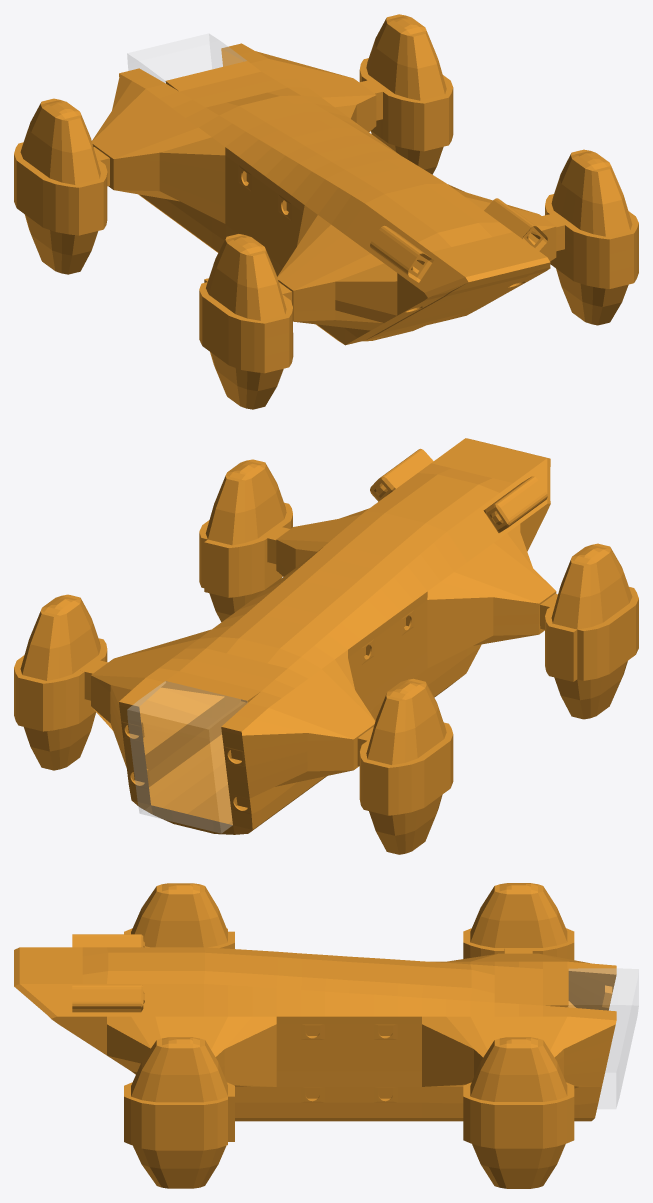
Rendered from КорабльМеню.fbx.
The picture shows the model from 3 angles, top to bottom: view 1: azimuth 30°, elevation 25°; view 2: azimuth 150°, elevation 25°; view 3: azimuth 270°, elevation 25°; orthographic projection. The views are drawn at different scales.
Visible parts, largest first — view 1: Cube.011; view 2: Cube.011; view 3: Cube.011.
Part boxes in pixels (box(x1,y1,x2,y2)): Cube.011: box(14, 14, 638, 409); Cube.011: box(14, 438, 638, 854); Cube.011: box(14, 883, 638, 1188).
Size of the model in its own units: 2487 by 3610 by 934.
